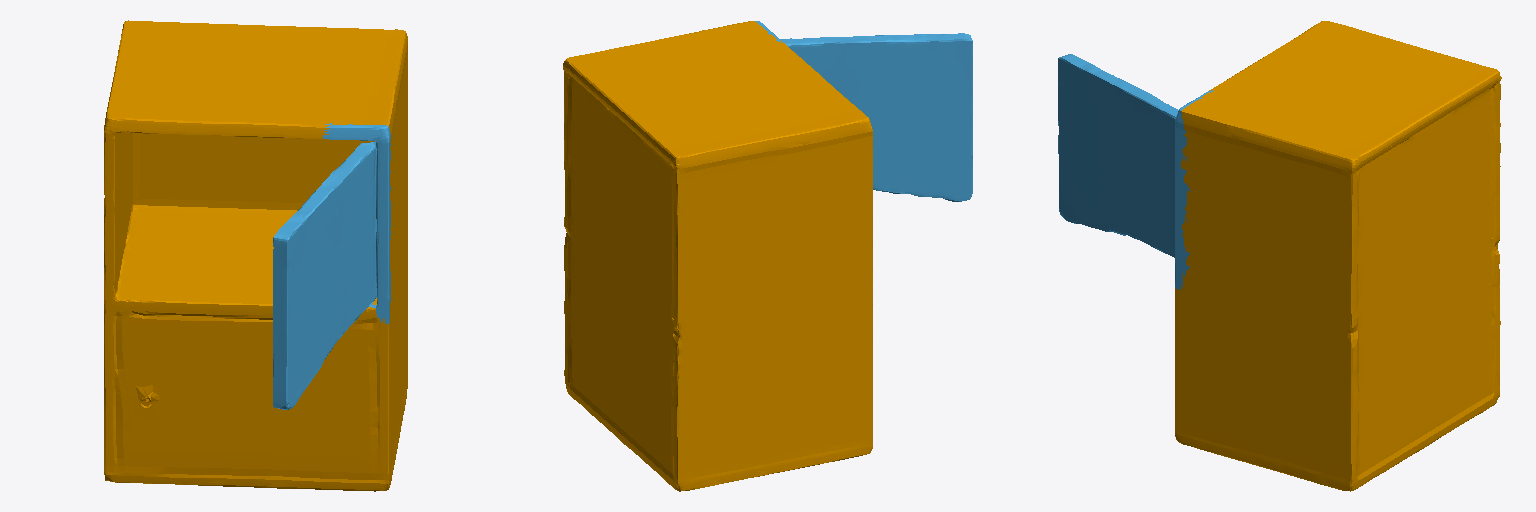
robot.urdf — object:
<?xml version="1.0" ?>
<robot name="object">
    <link name="part_0">
        <inertial>
            <mass value="10" />
            <inertia ixx="1" ixy="0" ixz="0" iyy="1" iyz="0" izz="1" />
        </inertial>
        <visual>
            <geometry>
                <mesh filename="visual/part_0/mesh.obj" />
            </geometry>
        </visual>
        <collision>
            <geometry>
                <mesh filename="collision/part_0_0.obj" />
            </geometry>
        </collision>
        <visual>
            <geometry>
                <mesh filename="visual/part_0/mesh.obj" />
            </geometry>
        </visual>
        <collision>
            <geometry>
                <mesh filename="collision/part_0_1.obj" />
            </geometry>
        </collision>
        <visual>
            <geometry>
                <mesh filename="visual/part_0/mesh.obj" />
            </geometry>
        </visual>
        <collision>
            <geometry>
                <mesh filename="collision/part_0_2.obj" />
            </geometry>
        </collision>
        <visual>
            <geometry>
                <mesh filename="visual/part_0/mesh.obj" />
            </geometry>
        </visual>
        <collision>
            <geometry>
                <mesh filename="collision/part_0_3.obj" />
            </geometry>
        </collision>
        <visual>
            <geometry>
                <mesh filename="visual/part_0/mesh.obj" />
            </geometry>
        </visual>
        <collision>
            <geometry>
                <mesh filename="collision/part_0_4.obj" />
            </geometry>
        </collision>
        <visual>
            <geometry>
                <mesh filename="visual/part_0/mesh.obj" />
            </geometry>
        </visual>
        <collision>
            <geometry>
                <mesh filename="collision/part_0_5.obj" />
            </geometry>
        </collision>
        <visual>
            <geometry>
                <mesh filename="visual/part_0/mesh.obj" />
            </geometry>
        </visual>
        <collision>
            <geometry>
                <mesh filename="collision/part_0_6.obj" />
            </geometry>
        </collision>
        <visual>
            <geometry>
                <mesh filename="visual/part_0/mesh.obj" />
            </geometry>
        </visual>
        <collision>
            <geometry>
                <mesh filename="collision/part_0_7.obj" />
            </geometry>
        </collision>
        <visual>
            <geometry>
                <mesh filename="visual/part_0/mesh.obj" />
            </geometry>
        </visual>
        <collision>
            <geometry>
                <mesh filename="collision/part_0_8.obj" />
            </geometry>
        </collision>
        <visual>
            <geometry>
                <mesh filename="visual/part_0/mesh.obj" />
            </geometry>
        </visual>
        <collision>
            <geometry>
                <mesh filename="collision/part_0_9.obj" />
            </geometry>
        </collision>
        <visual>
            <geometry>
                <mesh filename="visual/part_0/mesh.obj" />
            </geometry>
        </visual>
        <collision>
            <geometry>
                <mesh filename="collision/part_0_10.obj" />
            </geometry>
        </collision>
        <visual>
            <geometry>
                <mesh filename="visual/part_0/mesh.obj" />
            </geometry>
        </visual>
        <collision>
            <geometry>
                <mesh filename="collision/part_0_11.obj" />
            </geometry>
        </collision>
        <visual>
            <geometry>
                <mesh filename="visual/part_0/mesh.obj" />
            </geometry>
        </visual>
        <collision>
            <geometry>
                <mesh filename="collision/part_0_12.obj" />
            </geometry>
        </collision>
        <visual>
            <geometry>
                <mesh filename="visual/part_0/mesh.obj" />
            </geometry>
        </visual>
        <collision>
            <geometry>
                <mesh filename="collision/part_0_13.obj" />
            </geometry>
        </collision>
        <visual>
            <geometry>
                <mesh filename="visual/part_0/mesh.obj" />
            </geometry>
        </visual>
        <collision>
            <geometry>
                <mesh filename="collision/part_0_14.obj" />
            </geometry>
        </collision>
        <visual>
            <geometry>
                <mesh filename="visual/part_0/mesh.obj" />
            </geometry>
        </visual>
        <collision>
            <geometry>
                <mesh filename="collision/part_0_15.obj" />
            </geometry>
        </collision>
        <visual>
            <geometry>
                <mesh filename="visual/part_0/mesh.obj" />
            </geometry>
        </visual>
        <collision>
            <geometry>
                <mesh filename="collision/part_0_16.obj" />
            </geometry>
        </collision>
        <visual>
            <geometry>
                <mesh filename="visual/part_0/mesh.obj" />
            </geometry>
        </visual>
        <collision>
            <geometry>
                <mesh filename="collision/part_0_17.obj" />
            </geometry>
        </collision>
        <visual>
            <geometry>
                <mesh filename="visual/part_0/mesh.obj" />
            </geometry>
        </visual>
        <collision>
            <geometry>
                <mesh filename="collision/part_0_18.obj" />
            </geometry>
        </collision>
        <visual>
            <geometry>
                <mesh filename="visual/part_0/mesh.obj" />
            </geometry>
        </visual>
        <collision>
            <geometry>
                <mesh filename="collision/part_0_19.obj" />
            </geometry>
        </collision>
    </link>
    <link name="part_1">
        <inertial>
            <mass value="10" />
            <inertia ixx="1" ixy="0" ixz="0" iyy="1" iyz="0" izz="1" />
        </inertial>
        <visual>
            <geometry>
                <mesh filename="visual/part_1/mesh.obj" />
            </geometry>
            <origin xyz="-1.121413 0.124672 -0.308009" />
        </visual>
        <collision>
            <geometry>
                <mesh filename="collision/part_1_0.obj" />
            </geometry>
            <origin xyz="-1.121413 0.124672 -0.308009" />
        </collision>
        <visual>
            <geometry>
                <mesh filename="visual/part_1/mesh.obj" />
            </geometry>
            <origin xyz="-1.121413 0.124672 -0.308009" />
        </visual>
        <collision>
            <geometry>
                <mesh filename="collision/part_1_1.obj" />
            </geometry>
            <origin xyz="-1.121413 0.124672 -0.308009" />
        </collision>
        <visual>
            <geometry>
                <mesh filename="visual/part_1/mesh.obj" />
            </geometry>
            <origin xyz="-1.121413 0.124672 -0.308009" />
        </visual>
        <collision>
            <geometry>
                <mesh filename="collision/part_1_2.obj" />
            </geometry>
            <origin xyz="-1.121413 0.124672 -0.308009" />
        </collision>
        <visual>
            <geometry>
                <mesh filename="visual/part_1/mesh.obj" />
            </geometry>
            <origin xyz="-1.121413 0.124672 -0.308009" />
        </visual>
        <collision>
            <geometry>
                <mesh filename="collision/part_1_3.obj" />
            </geometry>
            <origin xyz="-1.121413 0.124672 -0.308009" />
        </collision>
        <visual>
            <geometry>
                <mesh filename="visual/part_1/mesh.obj" />
            </geometry>
            <origin xyz="-1.121413 0.124672 -0.308009" />
        </visual>
        <collision>
            <geometry>
                <mesh filename="collision/part_1_4.obj" />
            </geometry>
            <origin xyz="-1.121413 0.124672 -0.308009" />
        </collision>
        <visual>
            <geometry>
                <mesh filename="visual/part_1/mesh.obj" />
            </geometry>
            <origin xyz="-1.121413 0.124672 -0.308009" />
        </visual>
        <collision>
            <geometry>
                <mesh filename="collision/part_1_5.obj" />
            </geometry>
            <origin xyz="-1.121413 0.124672 -0.308009" />
        </collision>
        <visual>
            <geometry>
                <mesh filename="visual/part_1/mesh.obj" />
            </geometry>
            <origin xyz="-1.121413 0.124672 -0.308009" />
        </visual>
        <collision>
            <geometry>
                <mesh filename="collision/part_1_6.obj" />
            </geometry>
            <origin xyz="-1.121413 0.124672 -0.308009" />
        </collision>
        <visual>
            <geometry>
                <mesh filename="visual/part_1/mesh.obj" />
            </geometry>
            <origin xyz="-1.121413 0.124672 -0.308009" />
        </visual>
        <collision>
            <geometry>
                <mesh filename="collision/part_1_7.obj" />
            </geometry>
            <origin xyz="-1.121413 0.124672 -0.308009" />
        </collision>
        <visual>
            <geometry>
                <mesh filename="visual/part_1/mesh.obj" />
            </geometry>
            <origin xyz="-1.121413 0.124672 -0.308009" />
        </visual>
        <collision>
            <geometry>
                <mesh filename="collision/part_1_8.obj" />
            </geometry>
            <origin xyz="-1.121413 0.124672 -0.308009" />
        </collision>
        <visual>
            <geometry>
                <mesh filename="visual/part_1/mesh.obj" />
            </geometry>
            <origin xyz="-1.121413 0.124672 -0.308009" />
        </visual>
        <collision>
            <geometry>
                <mesh filename="collision/part_1_9.obj" />
            </geometry>
            <origin xyz="-1.121413 0.124672 -0.308009" />
        </collision>
        <visual>
            <geometry>
                <mesh filename="visual/part_1/mesh.obj" />
            </geometry>
            <origin xyz="-1.121413 0.124672 -0.308009" />
        </visual>
        <collision>
            <geometry>
                <mesh filename="collision/part_1_10.obj" />
            </geometry>
            <origin xyz="-1.121413 0.124672 -0.308009" />
        </collision>
        <visual>
            <geometry>
                <mesh filename="visual/part_1/mesh.obj" />
            </geometry>
            <origin xyz="-1.121413 0.124672 -0.308009" />
        </visual>
        <collision>
            <geometry>
                <mesh filename="collision/part_1_11.obj" />
            </geometry>
            <origin xyz="-1.121413 0.124672 -0.308009" />
        </collision>
        <visual>
            <geometry>
                <mesh filename="visual/part_1/mesh.obj" />
            </geometry>
            <origin xyz="-1.121413 0.124672 -0.308009" />
        </visual>
        <collision>
            <geometry>
                <mesh filename="collision/part_1_12.obj" />
            </geometry>
            <origin xyz="-1.121413 0.124672 -0.308009" />
        </collision>
        <visual>
            <geometry>
                <mesh filename="visual/part_1/mesh.obj" />
            </geometry>
            <origin xyz="-1.121413 0.124672 -0.308009" />
        </visual>
        <collision>
            <geometry>
                <mesh filename="collision/part_1_13.obj" />
            </geometry>
            <origin xyz="-1.121413 0.124672 -0.308009" />
        </collision>
        <visual>
            <geometry>
                <mesh filename="visual/part_1/mesh.obj" />
            </geometry>
            <origin xyz="-1.121413 0.124672 -0.308009" />
        </visual>
        <collision>
            <geometry>
                <mesh filename="collision/part_1_14.obj" />
            </geometry>
            <origin xyz="-1.121413 0.124672 -0.308009" />
        </collision>
        <visual>
            <geometry>
                <mesh filename="visual/part_1/mesh.obj" />
            </geometry>
            <origin xyz="-1.121413 0.124672 -0.308009" />
        </visual>
        <collision>
            <geometry>
                <mesh filename="collision/part_1_15.obj" />
            </geometry>
            <origin xyz="-1.121413 0.124672 -0.308009" />
        </collision>
        <visual>
            <geometry>
                <mesh filename="visual/part_1/mesh.obj" />
            </geometry>
            <origin xyz="-1.121413 0.124672 -0.308009" />
        </visual>
        <collision>
            <geometry>
                <mesh filename="collision/part_1_16.obj" />
            </geometry>
            <origin xyz="-1.121413 0.124672 -0.308009" />
        </collision>
        <visual>
            <geometry>
                <mesh filename="visual/part_1/mesh.obj" />
            </geometry>
            <origin xyz="-1.121413 0.124672 -0.308009" />
        </visual>
        <collision>
            <geometry>
                <mesh filename="collision/part_1_17.obj" />
            </geometry>
            <origin xyz="-1.121413 0.124672 -0.308009" />
        </collision>
        <visual>
            <geometry>
                <mesh filename="visual/part_1/mesh.obj" />
            </geometry>
            <origin xyz="-1.121413 0.124672 -0.308009" />
        </visual>
        <collision>
            <geometry>
                <mesh filename="collision/part_1_18.obj" />
            </geometry>
            <origin xyz="-1.121413 0.124672 -0.308009" />
        </collision>
        <visual>
            <geometry>
                <mesh filename="visual/part_1/mesh.obj" />
            </geometry>
            <origin xyz="-1.121413 0.124672 -0.308009" />
        </visual>
        <collision>
            <geometry>
                <mesh filename="collision/part_1_19.obj" />
            </geometry>
            <origin xyz="-1.121413 0.124672 -0.308009" />
        </collision>
    </link>
    <joint name="part_1_joint" type="revolute">
        <origin xyz="1.121413 -0.124672 0.308009" />
        <axis xyz="-0.005674 0.017509 0.999831" />
        <parent link="part_0" />
        <child link="part_1" />
        <limit effort="1000" lower="-3.14" upper="3.14" velocity="1000" />
        <dynamics damping="0.1" friction="0.1" />
    </joint>
</robot>

--- What the picture shows (computed from the rendered views, not written in the file) ---
The picture shows the robot from 3 angles, left to right: view 1: azimuth 30°, elevation 25°; view 2: azimuth 150°, elevation 25°; view 3: azimuth 270°, elevation 25°; orthographic projection.
Robot: object — 2 links, 1 joints (1 revolute); root link part_0; default pose: every joint at zero.
Links seen in each view (by area): view 1: part_0, part_1; view 2: part_0, part_1; view 3: part_0, part_1.
Boxes of the visible links, box(x1,y1,x2,y2) form: part_0: box(104, 20, 407, 491); part_1: box(273, 123, 390, 409); part_0: box(563, 21, 872, 491); part_1: box(755, 21, 972, 201); part_0: box(1175, 21, 1501, 491); part_1: box(1058, 54, 1212, 289).
Size in the robot's own frame: 0.5049 by 0.6632 by 0.5545 metres.
Meshes: 2 distinct files referenced, 40 mesh visuals loaded (2 OBJ).